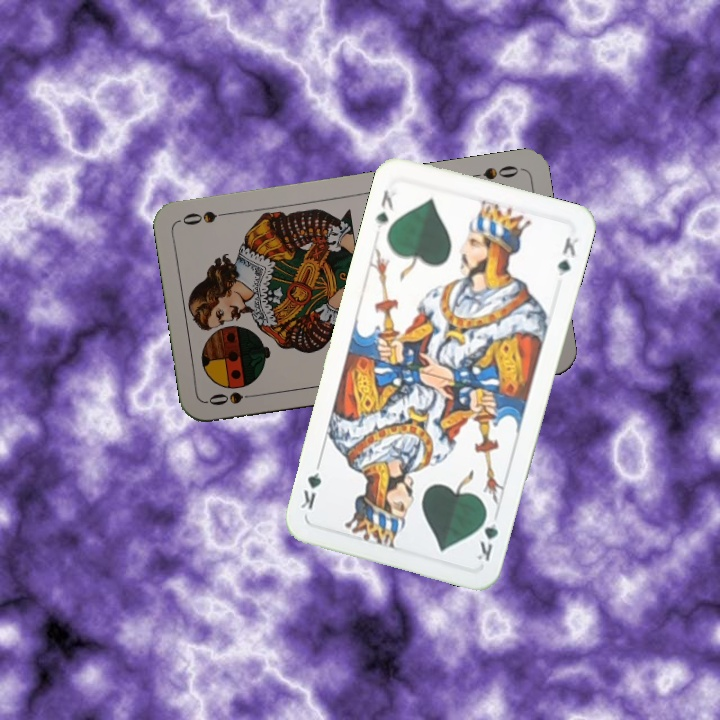GK: (472, 506, 501, 564), (371, 186, 396, 232)
SO: (204, 387, 263, 408), (464, 161, 521, 182)
